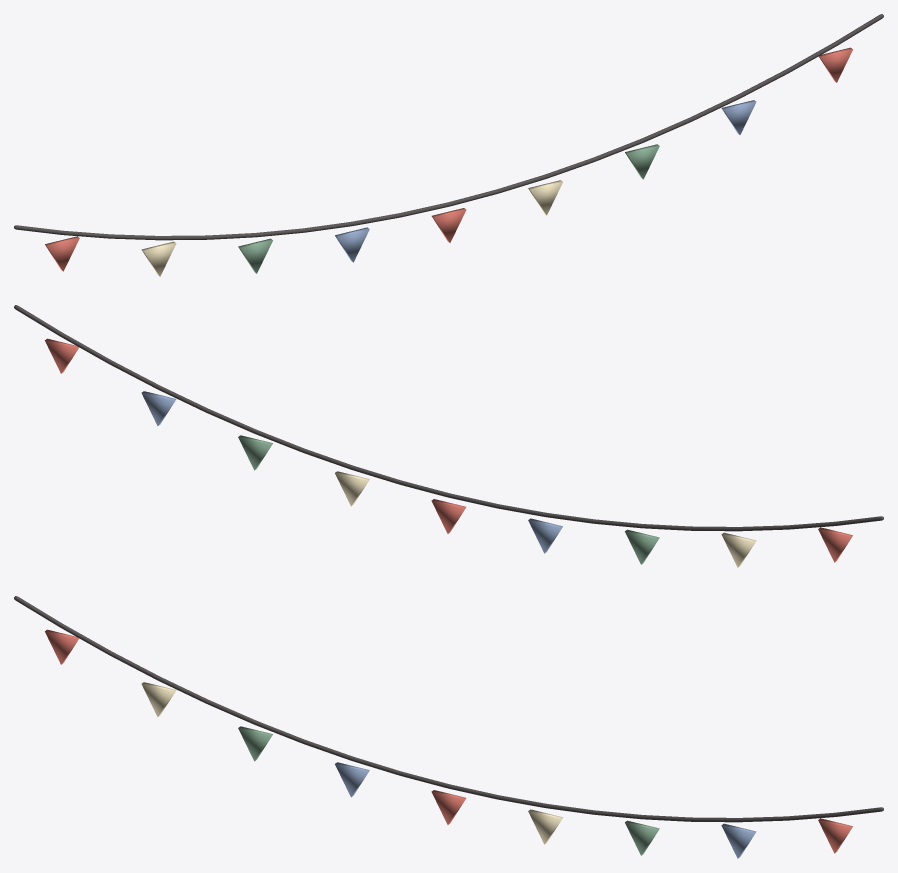
The model's file is festone_6m.glb.
3 renders of one model, top to bottom at view 1: azimuth 30°, elevation 25°; view 2: azimuth 150°, elevation 25°; view 3: azimuth 330°, elevation 25°, orthographic.
Parts seen in each view (by area): view 1: festone_cavo, bandierina_1, bandierina_3, bandierina_4, bandierina_5, bandierina_7, bandierina_0, bandierina_2, bandierina_6, bandierina_8; view 2: festone_cavo, bandierina_1, bandierina_3, bandierina_4, bandierina_5, bandierina_7, bandierina_0, bandierina_2, bandierina_6, bandierina_8; view 3: festone_cavo, bandierina_5, bandierina_7, bandierina_1, bandierina_3, bandierina_4, bandierina_2, bandierina_6, bandierina_8, bandierina_0.
Boxes of the visible parts, x1,y1,x2,y2 form: festone_cavo: [14, 14, 883, 240]; bandierina_1: [141, 241, 176, 276]; bandierina_3: [335, 227, 369, 262]; bandierina_4: [431, 208, 466, 242]; bandierina_5: [528, 180, 562, 215]; bandierina_7: [721, 100, 756, 134]; bandierina_0: [45, 236, 79, 271]; bandierina_2: [238, 238, 272, 273]; bandierina_6: [625, 144, 659, 179]; bandierina_8: [819, 47, 852, 82]; festone_cavo: [14, 305, 883, 531]; bandierina_1: [721, 532, 756, 567]; bandierina_3: [528, 518, 562, 553]; bandierina_4: [431, 499, 466, 533]; bandierina_5: [335, 471, 369, 506]; bandierina_7: [141, 391, 176, 425]; bandierina_0: [818, 527, 852, 562]; bandierina_2: [625, 529, 659, 564]; bandierina_6: [238, 435, 272, 470]; bandierina_8: [45, 338, 78, 373]; festone_cavo: [14, 596, 883, 822]; bandierina_5: [528, 809, 562, 844]; bandierina_7: [721, 823, 756, 858]; bandierina_1: [141, 682, 176, 716]; bandierina_3: [335, 762, 369, 797]; bandierina_4: [431, 790, 466, 824]; bandierina_2: [238, 726, 272, 761]; bandierina_6: [625, 820, 659, 855]; bandierina_8: [818, 818, 852, 853]; bandierina_0: [45, 629, 78, 664].
Size of the model in its own units: 6 by 0.8074 by 0.03.
